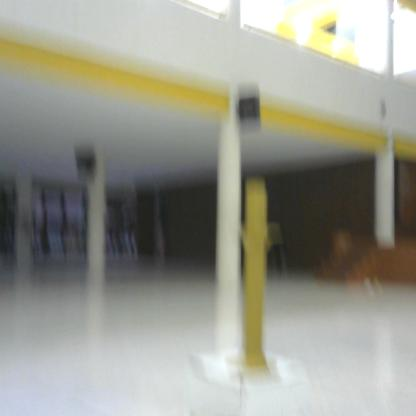pole: (220, 168, 295, 385)
